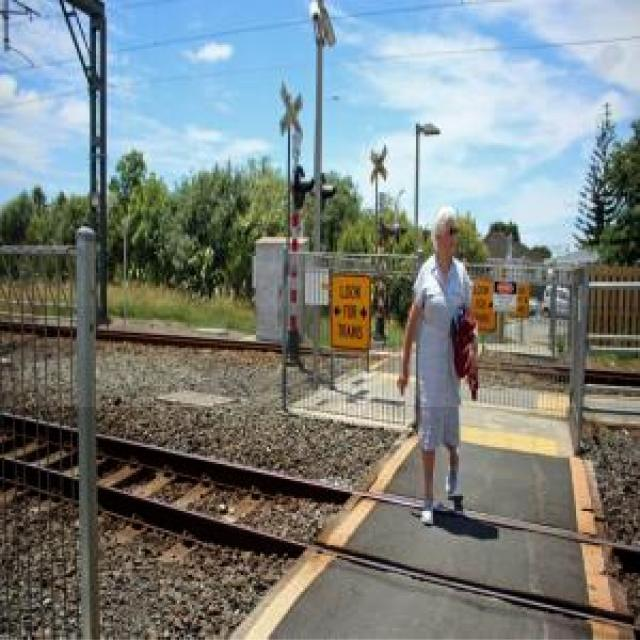rail: (1, 395, 640, 640), (1, 308, 640, 408)
